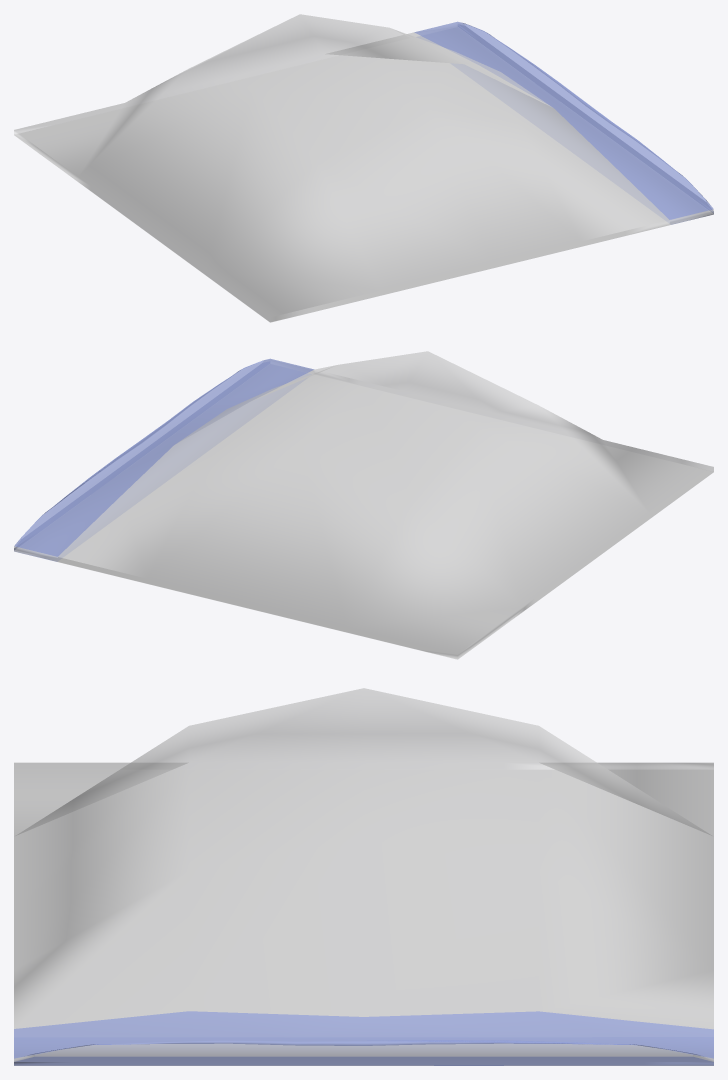
Rendered from close Zipper bag.fbx.
3 renders of one model, top to bottom at view 1: azimuth 30°, elevation 25°; view 2: azimuth 150°, elevation 25°; view 3: azimuth 270°, elevation 25°, orthographic. The views are drawn at different scales.
Visible parts, largest first — view 1: pPlane5; view 2: pPlane5; view 3: pPlane5.
Boxes of the visible parts, bbox=[...] form: pPlane5: bbox=[14, 14, 713, 322]; pPlane5: bbox=[14, 351, 713, 659]; pPlane5: bbox=[14, 688, 713, 1065].
Size of the model in its own units: 3.78 by 1.04 by 3.78.
